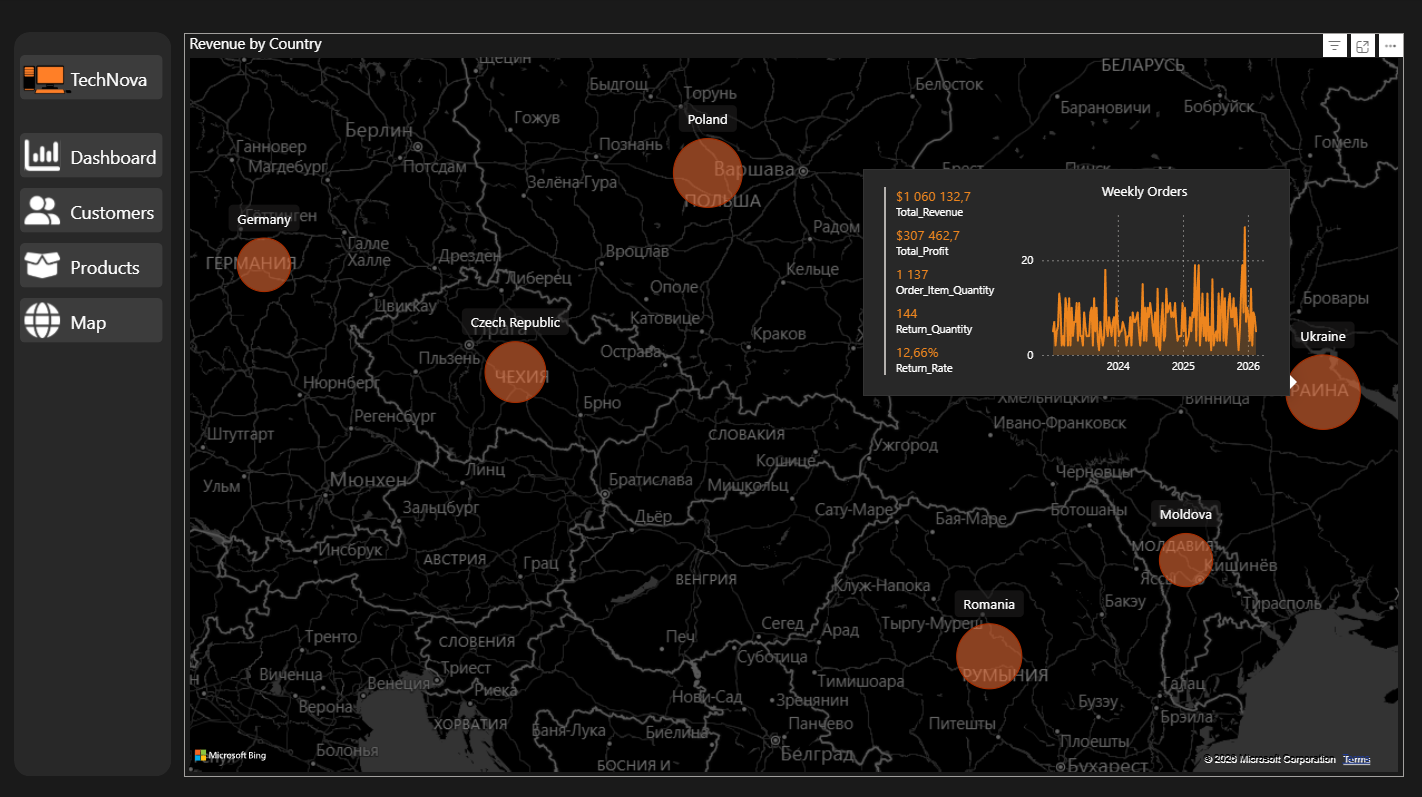

The dashboard page shown, as its layout file describes it:
{"tool":"powerbi","page":{"name":"Map","canvas":[1280,720],"ordinal":3},"visuals":[{"type":"map","title":"Revenue by Country","fields":{"Category":["dim_customers.country"],"Size":["measure_table.Total_Revenue"]},"box":[168.3,32.3,1094.6,668.2],"z":0},{"type":"shape","box":[21,52,128,40],"z":500,"group":"g5"},{"type":"shape","box":[21,122,128,40],"z":500,"group":"g1"},{"type":"shape","box":[21,171.3,128,40],"z":500,"group":"g2"},{"type":"shape","box":[21,220.7,128,40],"z":500,"group":"g3"},{"type":"shape","box":[21,270,128,40],"z":500,"group":"g4"},{"type":"shape","box":[15.3,31.8,141.2,668.2],"z":1000},{"type":"actionButton","box":[21,122,46,40],"z":1000,"group":"g1"},{"type":"actionButton","box":[21,171.3,46,40],"z":1000,"group":"g2"},{"type":"actionButton","box":[21,220.7,46,40],"z":1000,"group":"g3"},{"type":"actionButton","box":[21,270,46,40],"z":1000,"group":"g4"},{"type":"textbox","box":[61,57,95,35],"z":2000,"group":"g5"},{"type":"textbox","box":[61,127,95,35],"z":2000,"group":"g1"},{"type":"textbox","box":[61,176.3,95,35],"z":2000,"group":"g2"},{"type":"textbox","box":[61,225.7,95,35],"z":2000,"group":"g3"},{"type":"textbox","box":[61,275,95,35],"z":2000,"group":"g4"},{"type":"group","id":"g1","title":"Группа 1","box":[21,122,135,40],"z":3000},{"type":"group","id":"g2","title":"Группа 1","box":[21,171.3,135,40],"z":4000},{"type":"group","id":"g3","title":"Группа 1","box":[21,220.7,135,40],"z":5000},{"type":"group","id":"g4","title":"Группа 1","box":[21,270,135,40],"z":6000},{"type":"group","id":"g5","title":"Группа 1","box":[21,52,135,40],"z":7000},{"type":"image","box":[19,51,53,47],"z":8000}]}

Visuals, with their boxes on the page's 1280x720 design canvas (x1, y1, x2, y2). These are canvas units, not pixel positions in the 1422x797 screenshot, which may show the page scaled, cropped or inside an application window:
"Revenue by Country" map: (168, 32, 1263, 700)
shape: (21, 52, 149, 92)
shape: (21, 122, 149, 162)
shape: (21, 171, 149, 211)
shape: (21, 221, 149, 261)
shape: (21, 270, 149, 310)
shape: (15, 32, 156, 700)
actionButton: (21, 122, 67, 162)
actionButton: (21, 171, 67, 211)
actionButton: (21, 221, 67, 261)
actionButton: (21, 270, 67, 310)
textbox: (61, 57, 156, 92)
textbox: (61, 127, 156, 162)
textbox: (61, 176, 156, 211)
textbox: (61, 226, 156, 261)
textbox: (61, 275, 156, 310)
"Группа 1" group: (21, 122, 156, 162)
"Группа 1" group: (21, 171, 156, 211)
"Группа 1" group: (21, 221, 156, 261)
"Группа 1" group: (21, 270, 156, 310)
"Группа 1" group: (21, 52, 156, 92)
image: (19, 51, 72, 98)
